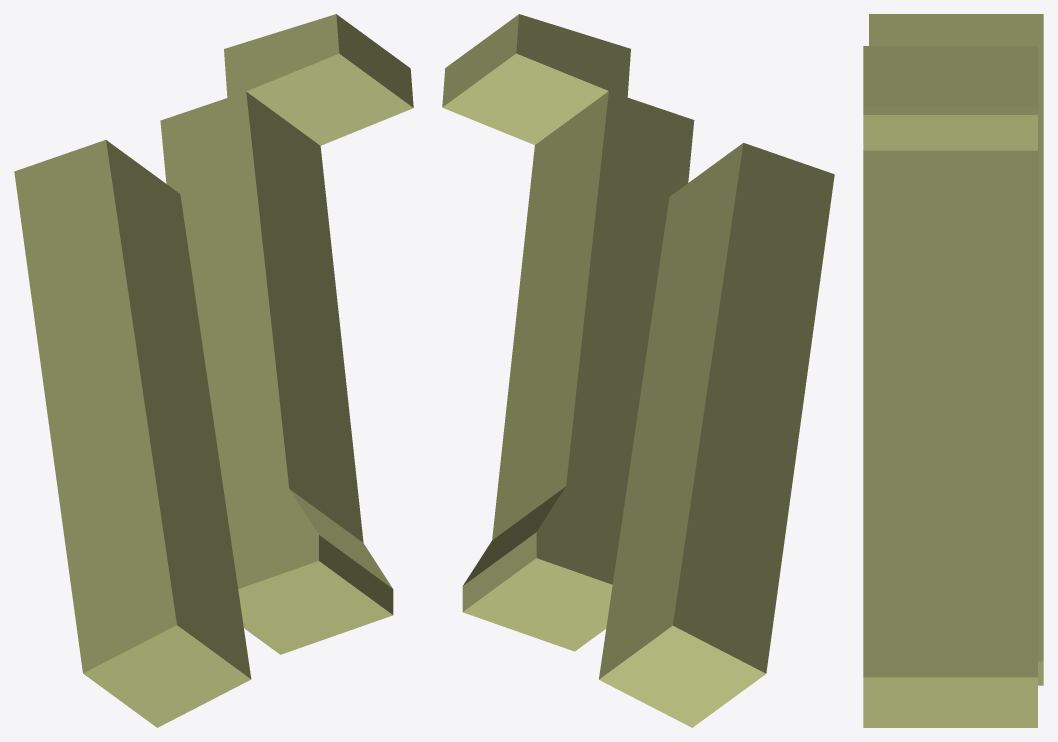
The picture shows the model from 3 angles, left to right: view 1: azimuth 30°, elevation 25°; view 2: azimuth 150°, elevation 25°; view 3: azimuth 270°, elevation 25°; orthographic projection. The views are drawn at different scales.
Parts seen in each view (by area): view 1: 0_1_0_2_1_2_3_0_3_1; view 2: 0_1_0_2_1_2_3_0_3_1; view 3: 0_1_0_2_1_2_3_0_3_1.
Part boxes in pixels (x1,y1,x2,y2): 0_1_0_2_1_2_3_0_3_1: (14,14,413,727); 0_1_0_2_1_2_3_0_3_1: (442,14,834,727); 0_1_0_2_1_2_3_0_3_1: (863,14,1043,727).
Bounding box in the file's own units: 15.02 × 26.7 × 6.2.
